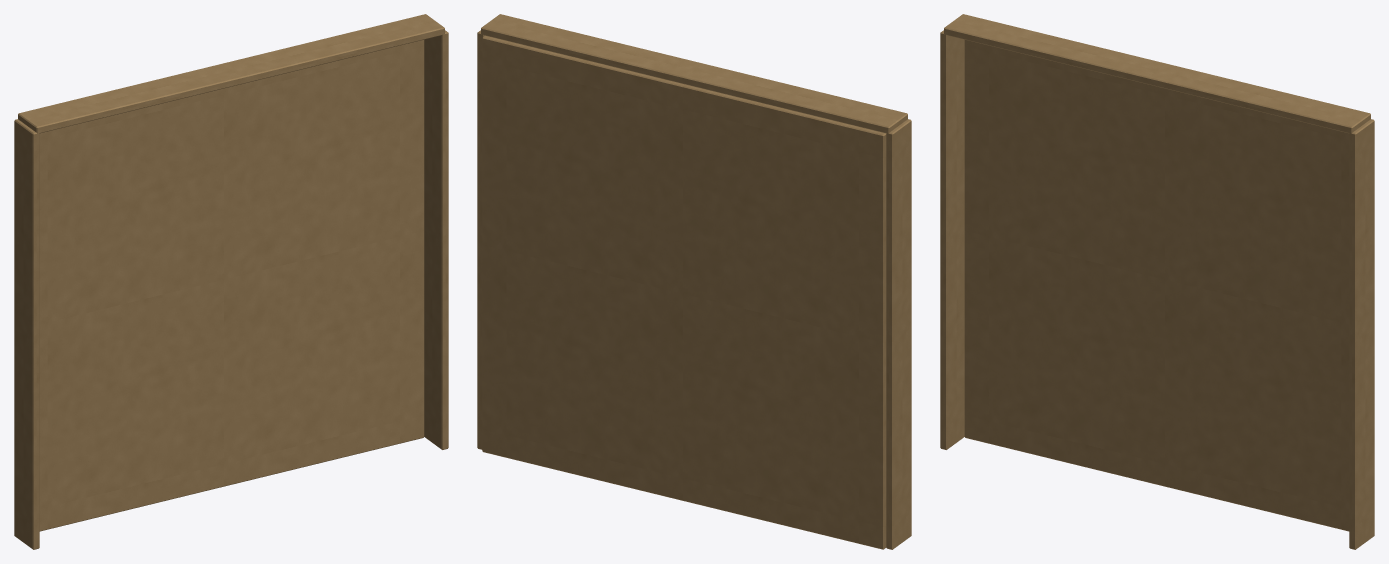
Rendered from pizza-box-lid.glb.
3 renders of one model, left to right at view 1: azimuth 30°, elevation 25°; view 2: azimuth 150°, elevation 25°; view 3: azimuth 330°, elevation 25°, orthographic.
Parts seen in each view (by area): view 1: Panel, LeftFlap, FrontFlap, RightFlap; view 2: Panel, LeftFlap, FrontFlap, RightFlap; view 3: Panel, RightFlap, FrontFlap, LeftFlap.
Part boxes in pixels (x1=…): Panel: x1=39, y1=40, x2=424, y2=531; LeftFlap: x1=14, y1=119, x2=39, y2=549; FrontFlap: x1=18, y1=14, x2=444, y2=133; RightFlap: x1=424, y1=30, x2=448, y2=449; Panel: x1=482, y1=35, x2=886, y2=549; LeftFlap: x1=886, y1=119, x2=911, y2=549; FrontFlap: x1=481, y1=14, x2=907, y2=133; RightFlap: x1=477, y1=30, x2=484, y2=449; Panel: x1=964, y1=40, x2=1349, y2=531; RightFlap: x1=1349, y1=119, x2=1374, y2=549; FrontFlap: x1=944, y1=14, x2=1370, y2=133; LeftFlap: x1=940, y1=30, x2=964, y2=449.
Size of the model in its own units: 0.472 by 0.458 by 0.042.
Materials: 4 (4 with a texture image).
